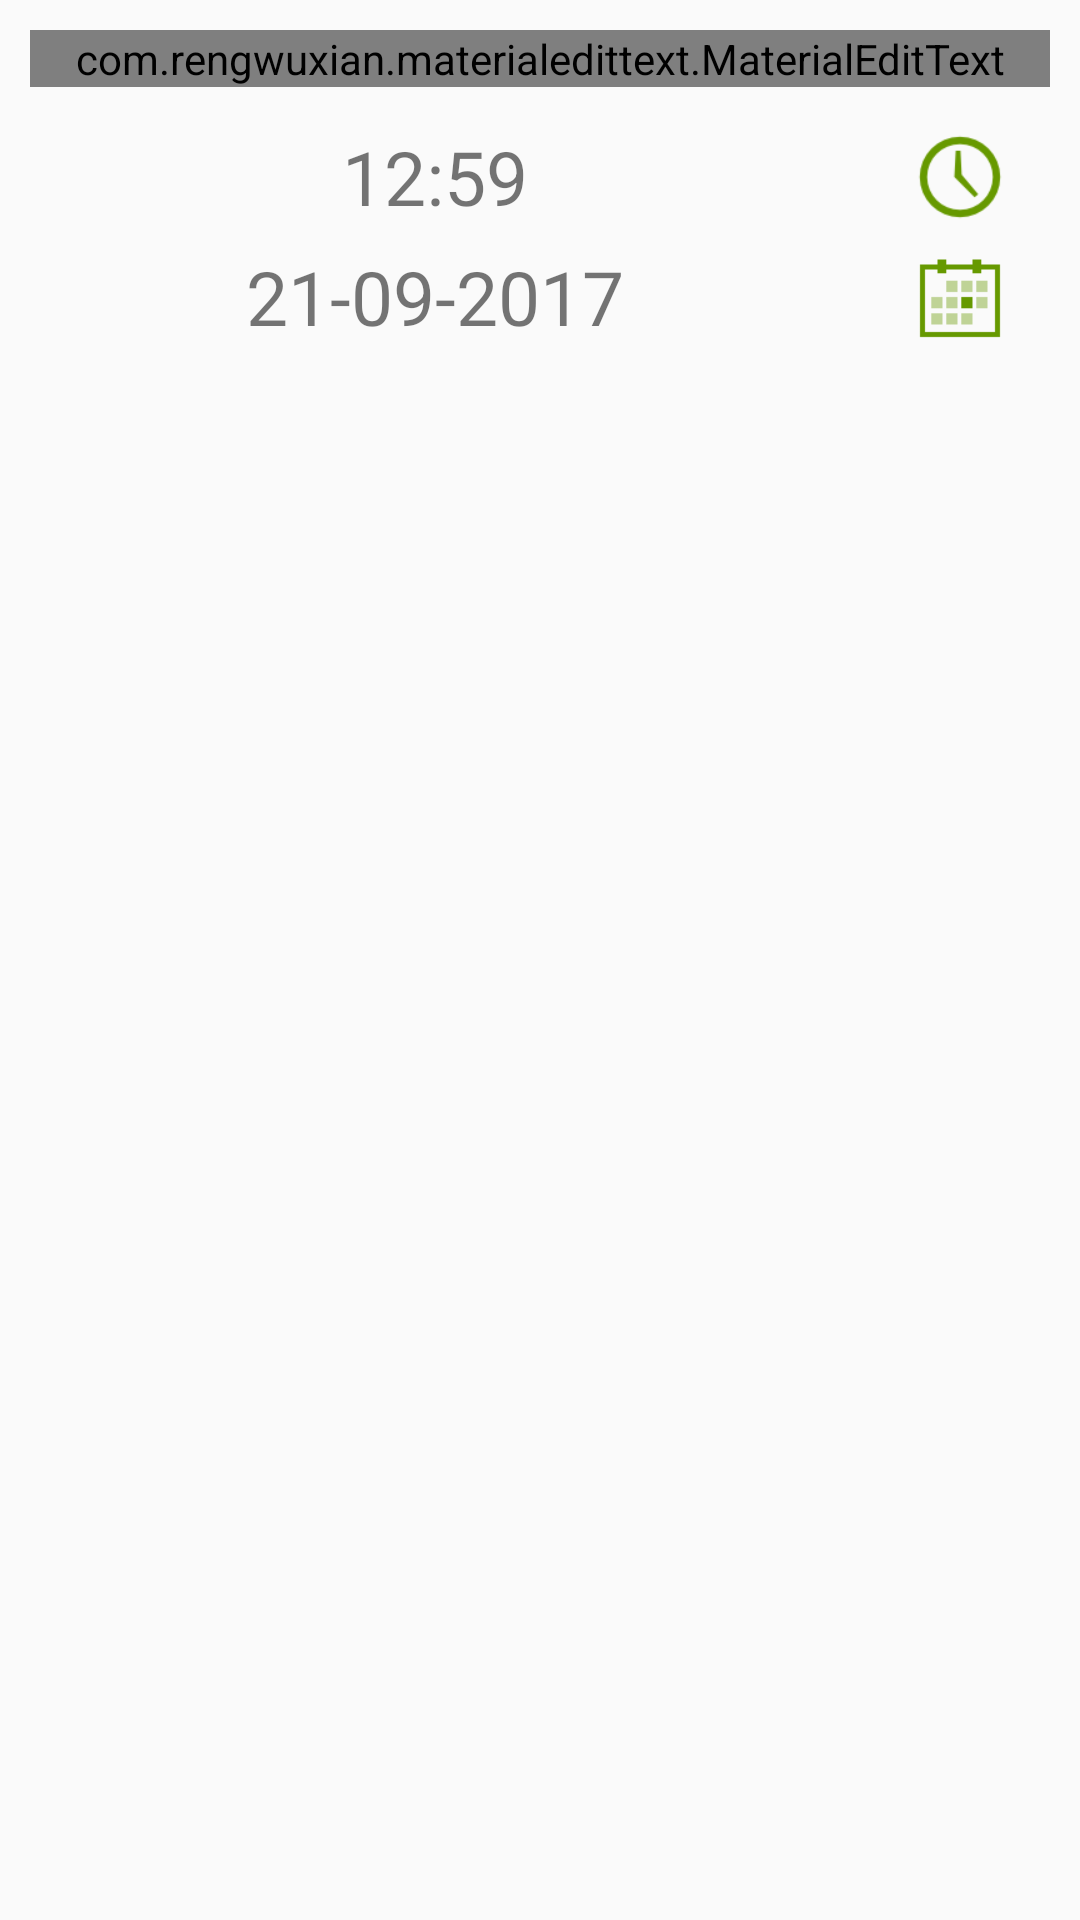

Icons on this 1080*1920 Android screen, each with its box as (x1, y1, x2, y2):
calendar day: (919, 259, 1001, 338)
clock: (919, 136, 1001, 218)
